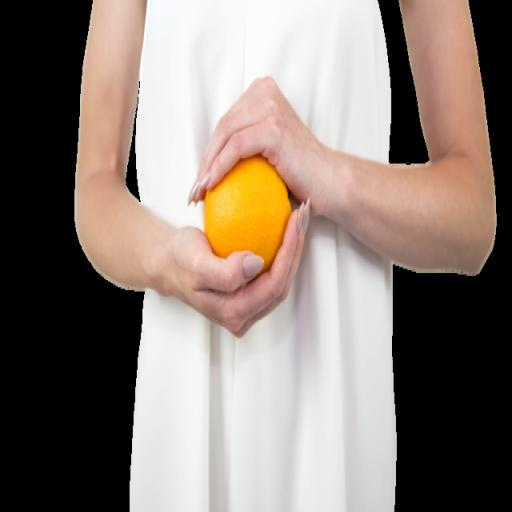orange: (205, 156, 291, 275)
